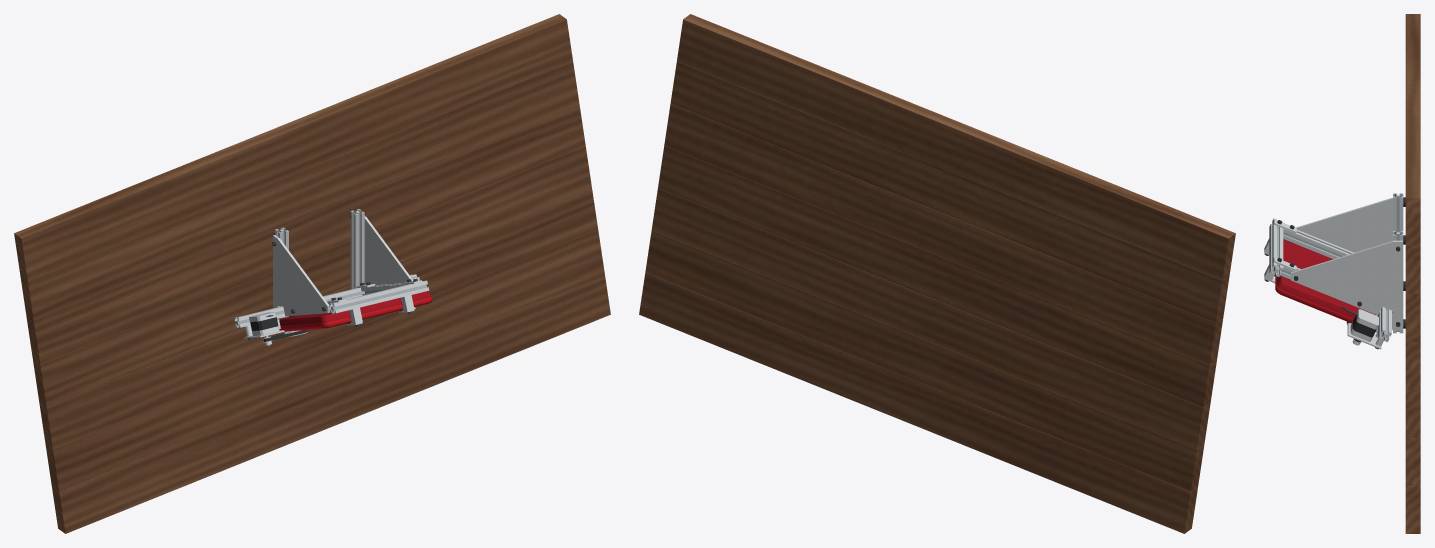
The model's file is etch-rig.glb.
3 views of the same model, side by side, from view 1: azimuth 30°, elevation 25°; view 2: azimuth 150°, elevation 25°; view 3: azimuth 270°, elevation 25° (orthographic). The views are drawn at different scales.
Parts seen in each view (by area): view 1: Walnut tabletop • board 07, Walnut tabletop • board 01, Walnut tabletop • board 06, Walnut tabletop • board 02, Walnut tabletop • board 05, Walnut tabletop • board 04, Walnut tabletop • board 03, 5 mm side gusset, 5 mm side gusset.001, Top crossbar, Horizontal base.001, 01 • Back | drafted shell (+2 smaller); view 2: Walnut tabletop • board 07, Walnut tabletop • board 02, Walnut tabletop • board 01, Walnut tabletop • board 06, Walnut tabletop • board 04, Walnut tabletop • board 03, Walnut tabletop • board 05; view 3: 5 mm side gusset.001, Walnut tabletop • board 07, 5 mm side gusset, 01 • Back | drafted shell, Back support upright, Walnut tabletop • board 01, Walnut tabletop • board 02, Walnut tabletop • board 03, Walnut tabletop • board 04, Walnut tabletop • board 05, Walnut tabletop • board 06, Top crossbar (+7 smaller).
Boxes of the visible parts, x1,y1,x2,y2 form: Walnut tabletop • board 07: (14, 14, 572, 280); Walnut tabletop • board 01: (52, 272, 610, 533); Walnut tabletop • board 06: (20, 61, 579, 322); Walnut tabletop • board 02: (45, 230, 604, 491); Walnut tabletop • board 05: (26, 104, 585, 364); Walnut tabletop • board 04: (33, 146, 591, 407); Walnut tabletop • board 03: (39, 188, 598, 449); 5 mm side gusset: (273, 235, 329, 320); 5 mm side gusset.001: (364, 216, 413, 285); Top crossbar: (329, 280, 429, 313); Horizontal base.001: (350, 209, 364, 289); 01 • Back | drafted shell: (279, 291, 431, 326); Walnut tabletop • board 07: (677, 14, 1235, 280); Walnut tabletop • board 02: (645, 230, 1204, 491); Walnut tabletop • board 01: (639, 272, 1197, 533); Walnut tabletop • board 06: (670, 61, 1229, 322); Walnut tabletop • board 04: (658, 146, 1216, 407); Walnut tabletop • board 03: (651, 188, 1210, 449); Walnut tabletop • board 05: (664, 104, 1223, 364); 5 mm side gusset.001: (1291, 240, 1402, 330); Walnut tabletop • board 07: (1405, 14, 1420, 245); 5 mm side gusset: (1296, 197, 1392, 252); 01 • Back | drafted shell: (1277, 239, 1374, 318); Back support upright: (1283, 228, 1353, 259); Walnut tabletop • board 01: (1405, 486, 1420, 533); Walnut tabletop • board 02: (1405, 438, 1420, 485); Walnut tabletop • board 03: (1405, 390, 1420, 437); Walnut tabletop • board 04: (1405, 342, 1420, 389); Walnut tabletop • board 05: (1405, 294, 1420, 341); Walnut tabletop • board 06: (1405, 246, 1420, 293); Top crossbar: (1269, 218, 1283, 276).
Bounding box in the file's own units: 1.33 × 0.8427 × 0.2975.
Materials: 19 (9 with a texture image).
